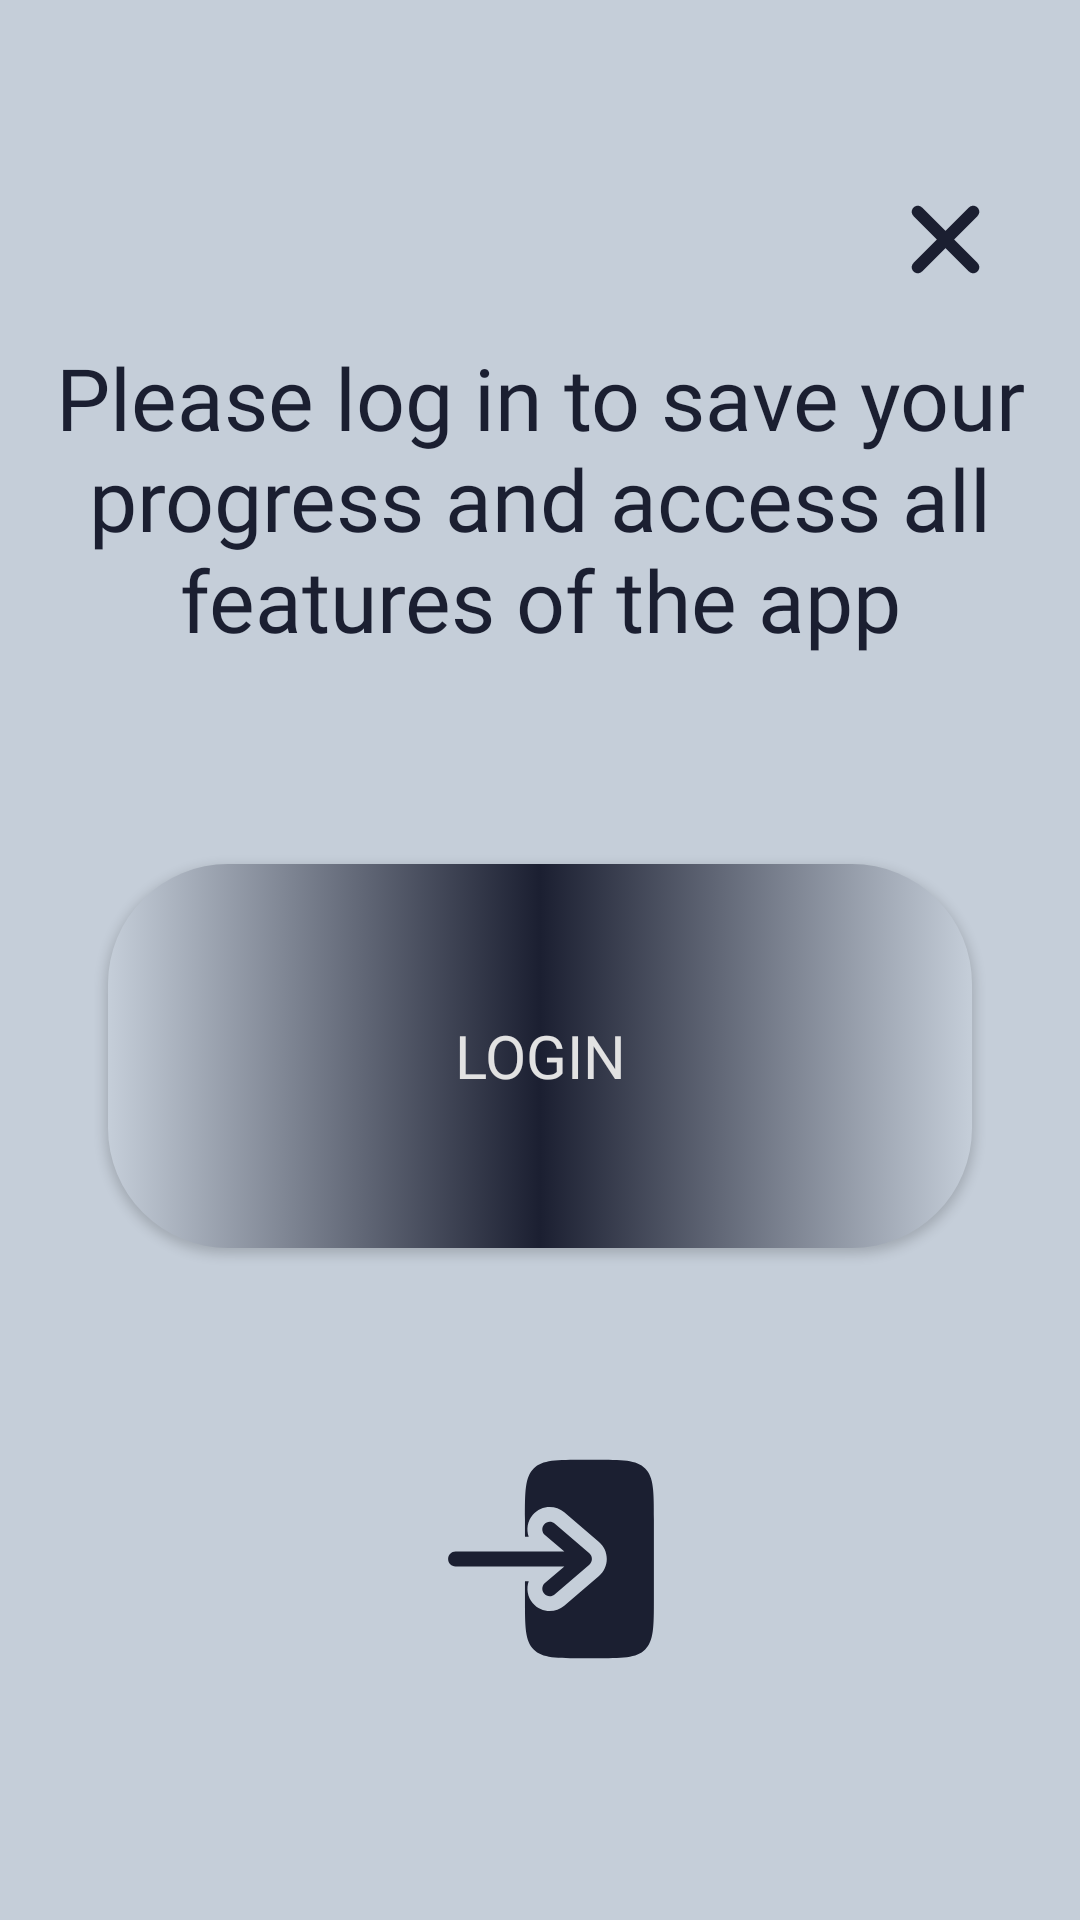

Icon click points for this 1080 × 1920 phone screenshot, format [x,y]:
cross: [945,239]
login: [551,1559]
